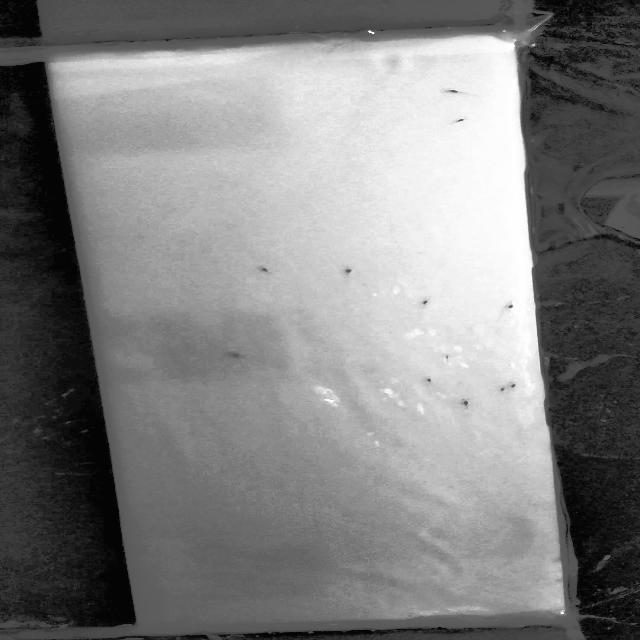shrimp: (334, 256, 359, 279), (449, 394, 478, 412), (218, 348, 254, 362), (438, 86, 474, 97), (253, 266, 288, 277), (440, 115, 475, 125), (417, 375, 447, 385), (414, 298, 444, 306), (508, 381, 524, 393), (504, 300, 519, 312), (493, 384, 508, 394)
